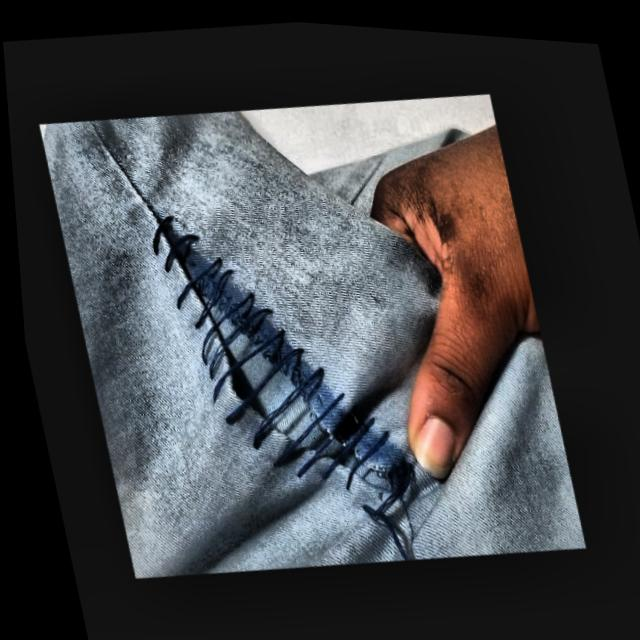seam: (64, 177, 417, 535)
